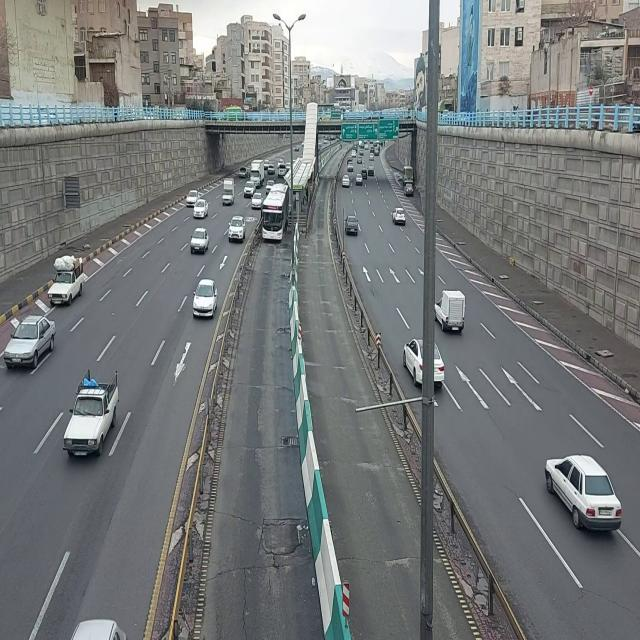Bus: (262, 182, 288, 242)
Car: (543, 453, 627, 538), (6, 314, 57, 375), (402, 336, 446, 388), (191, 279, 219, 321), (188, 223, 214, 255), (227, 216, 245, 245), (344, 213, 359, 237), (193, 198, 209, 220), (393, 206, 407, 228), (186, 188, 199, 208), (251, 191, 263, 211), (243, 179, 255, 199), (404, 181, 414, 197), (238, 166, 248, 180), (267, 163, 276, 178), (278, 162, 287, 177), (342, 174, 350, 189), (355, 174, 363, 187), (368, 165, 376, 177), (361, 169, 368, 181), (348, 161, 355, 173), (357, 155, 363, 165), (369, 153, 375, 163), (352, 149, 357, 157)
Pickup: (62, 366, 122, 468), (48, 253, 88, 309), (434, 288, 468, 332), (222, 178, 236, 207)
Truck: (250, 159, 266, 185)
